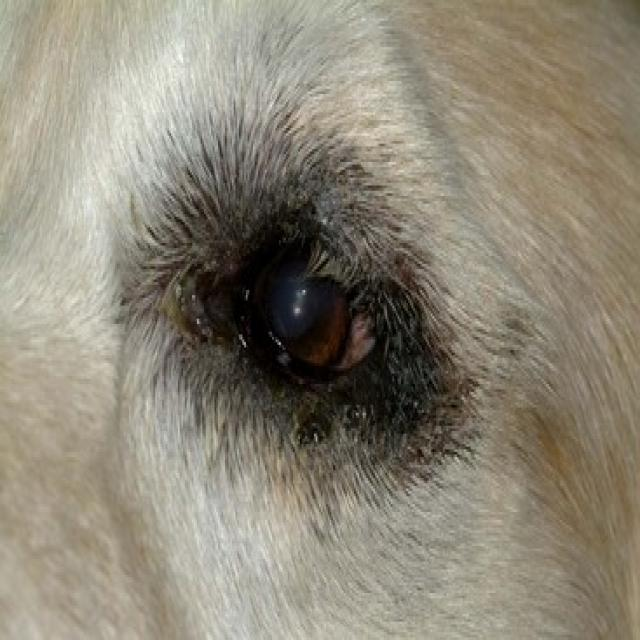allergic dermatitis: (378, 270, 438, 430), (298, 388, 404, 462), (203, 375, 298, 453), (163, 272, 230, 378), (169, 170, 226, 271), (211, 140, 292, 205), (322, 198, 374, 266), (302, 157, 346, 207), (282, 167, 318, 205)
